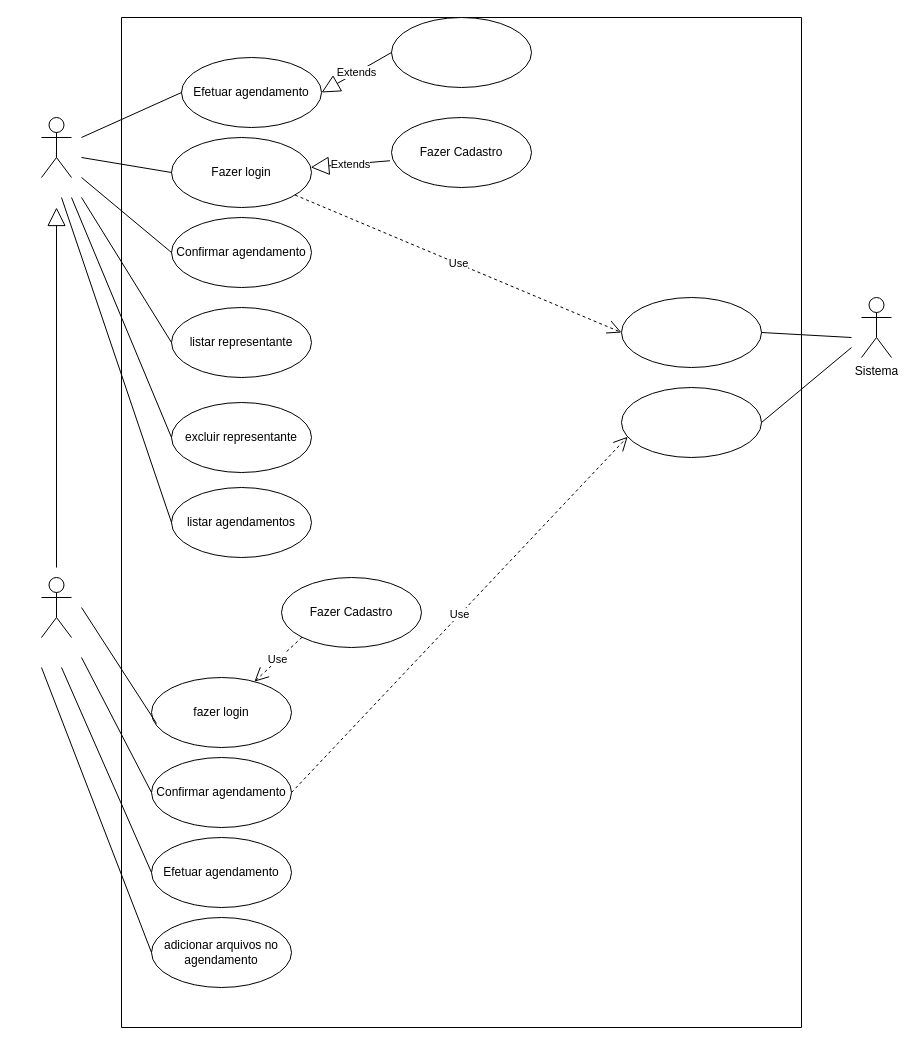
This 915x1045 diagram has some shape labels left out. Here are the shapes that lost their labels. From the top down, the box of each, then its label:
(390, 16, 532, 88): Preencher o cadastro de agendamento
(40, 116, 72, 178): varejista
(620, 296, 762, 368): validar login
(620, 386, 762, 458): Exibir os agendamentos
(40, 576, 72, 638): Representante
